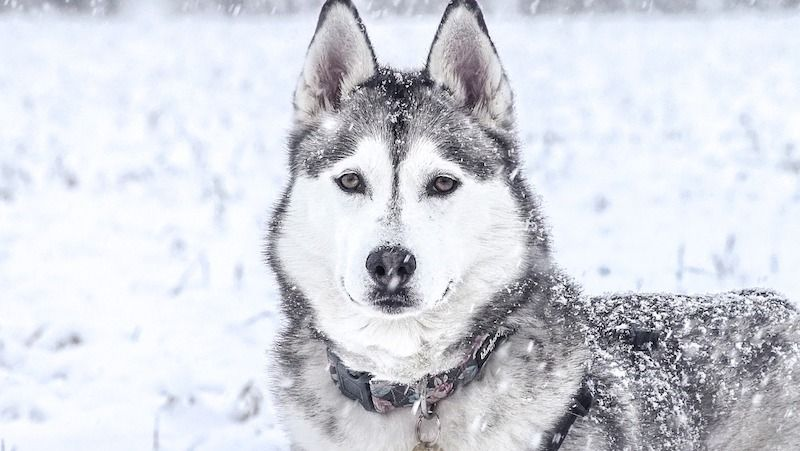husky: (251, 4, 585, 446)
